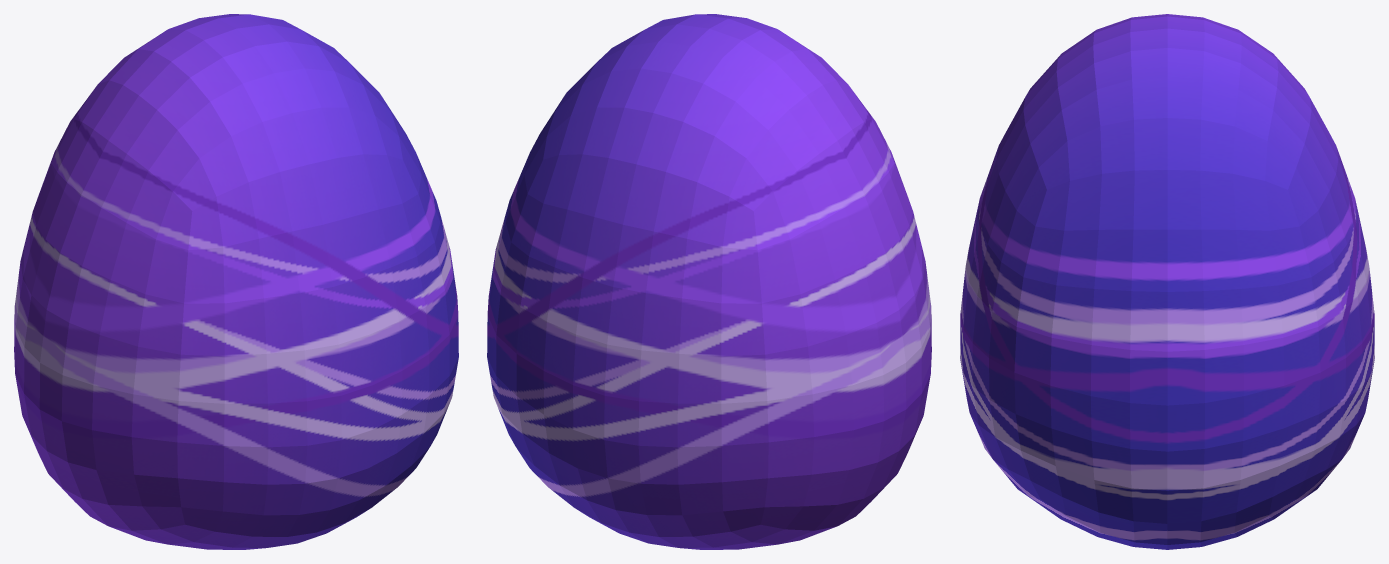
Rendered from Egg_Purple.fbx.
3 views of the same model, side by side, from view 1: azimuth 30°, elevation 25°; view 2: azimuth 150°, elevation 25°; view 3: azimuth 270°, elevation 25° (orthographic).
Visible parts, largest first — view 1: Egg; view 2: Egg; view 3: Egg.
Part boxes in pixels (x1,y1,x2,y2): Egg: (14, 14, 458, 549); Egg: (487, 14, 931, 549); Egg: (960, 14, 1374, 549).
Bounding box in the file's own units: 210 × 256 × 195.
1 material, 1 textured.
